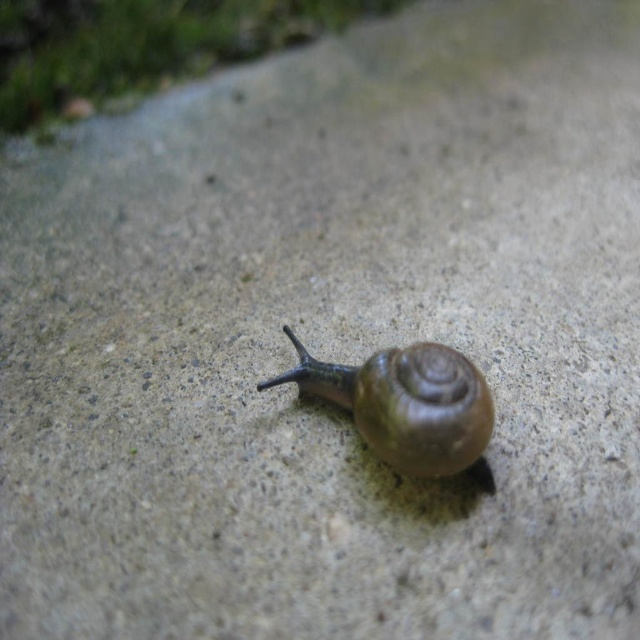Snail: (256, 322, 499, 483)
